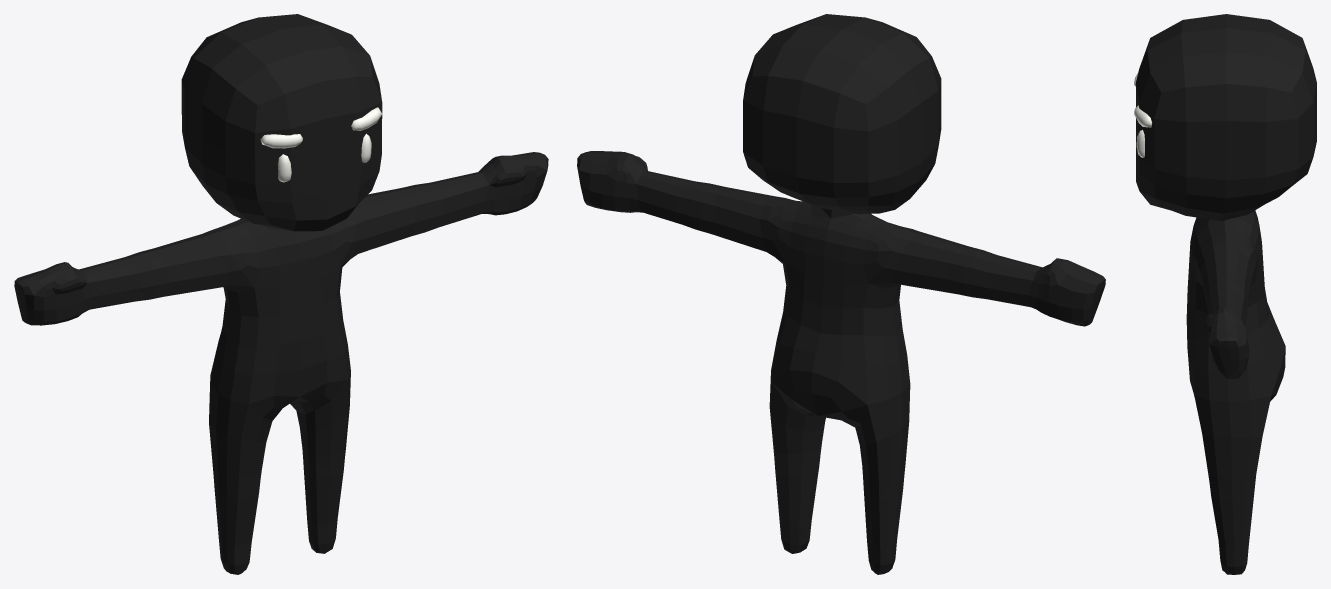
File: BaseCharacter.fbx
3 renders of one model, left to right at view 1: azimuth 30°, elevation 25°; view 2: azimuth 150°, elevation 25°; view 3: azimuth 270°, elevation 25°, orthographic. The views are drawn at different scales.
Visible parts, largest first — view 1: Body; view 2: Body; view 3: Body.
Boxes of the visible parts, box(x1,y1,x2,y2) form: Body: box(14, 14, 548, 574); Body: box(577, 14, 1105, 574); Body: box(1134, 14, 1316, 574).
Size of the model in its own units: 324 by 315 by 99.31.
Materials: 1 (1 with a texture image).
